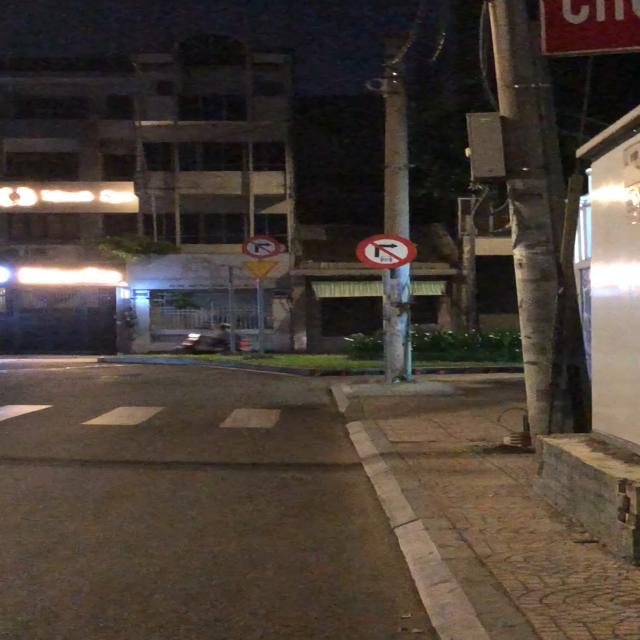Bien bao cam re phai: (241, 234, 283, 258)
Bien bao cam xe o to re phai: (355, 234, 421, 270)
Bien bao giao nhau voi duong uu tien: (239, 259, 281, 280)
